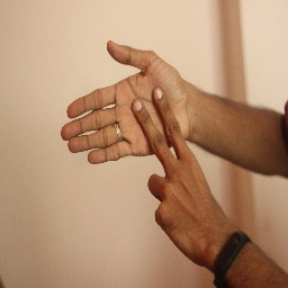N: (52, 37, 220, 218)
